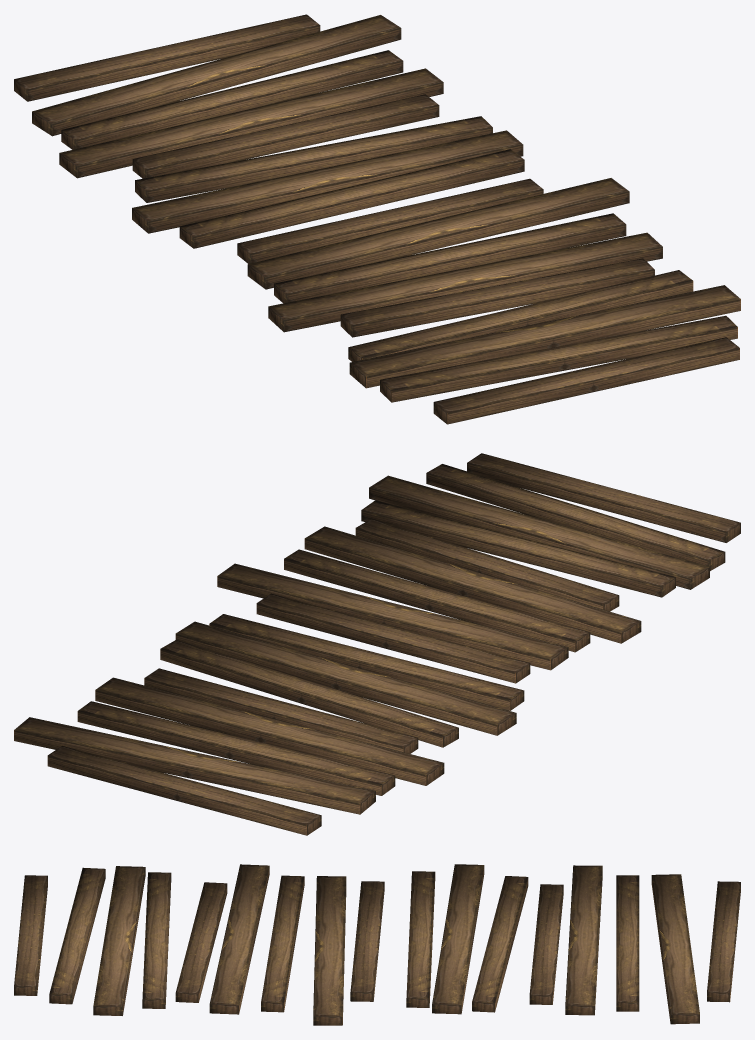
The model's file is Plank_07.FBX.
3 renders of one model, top to bottom at view 1: azimuth 30°, elevation 25°; view 2: azimuth 150°, elevation 25°; view 3: azimuth 270°, elevation 25°, orthographic. The views are drawn at different scales.
Parts seen in each view (by area): view 1: Plank_07; view 2: Plank_07; view 3: Plank_07.
Part boxes in pixels (left/top/right/bottom): Plank_07: left=14, top=14, right=740, bottom=424; Plank_07: left=14, top=453, right=740, bottom=835; Plank_07: left=14, top=864, right=740, bottom=1025.
Size of the model in its own units: 3.85 by 7.76 by 0.1095.
